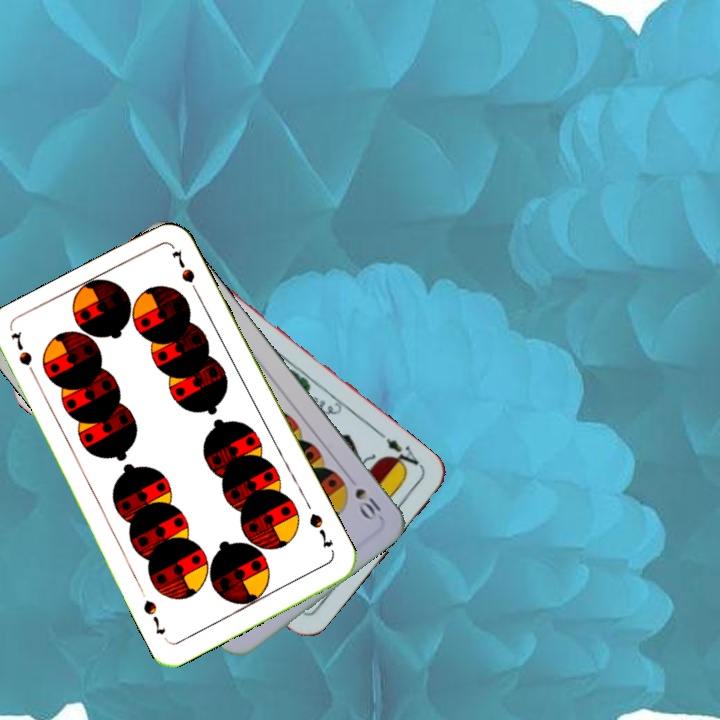EA: (375, 428, 425, 475)
S10: (343, 470, 384, 523)
S7: (6, 328, 41, 384), (305, 509, 337, 551)
